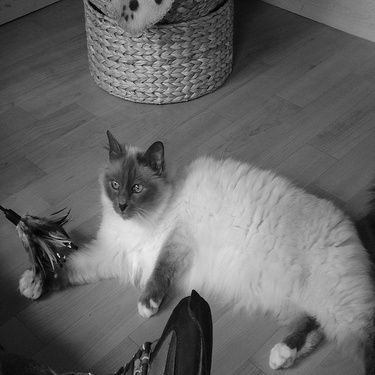cat: (19, 126, 368, 368)
